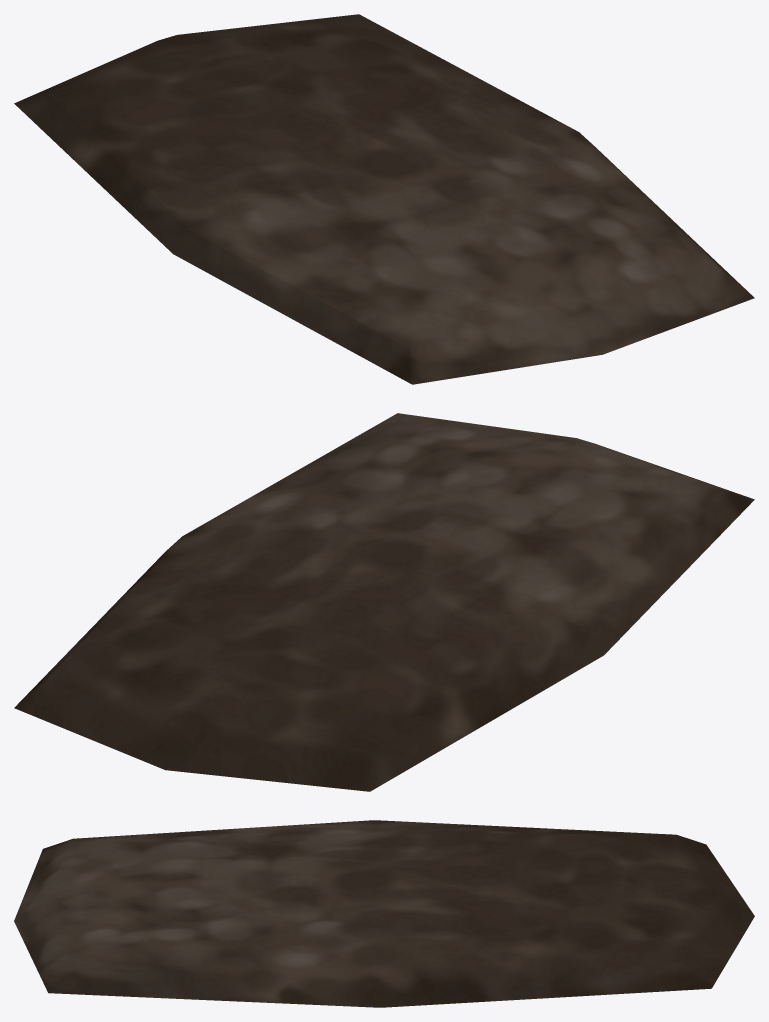
Rendered from model_chunk_3.glb.
3 renders of one model, top to bottom at view 1: azimuth 30°, elevation 25°; view 2: azimuth 150°, elevation 25°; view 3: azimuth 270°, elevation 25°, orthographic. The views are drawn at different scales.
Parts seen in each view (by area): view 1: Tomb_Soil003; view 2: Tomb_Soil003; view 3: Tomb_Soil003.
Part boxes in pixels (bbox=[...]): Tomb_Soil003: bbox=[14, 14, 754, 384]; Tomb_Soil003: bbox=[14, 413, 754, 791]; Tomb_Soil003: bbox=[14, 820, 754, 1007].
Bounding box in the file's own units: 1.02 × 0.1019 × 1.8.
Materials: 1 (1 with a texture image).
